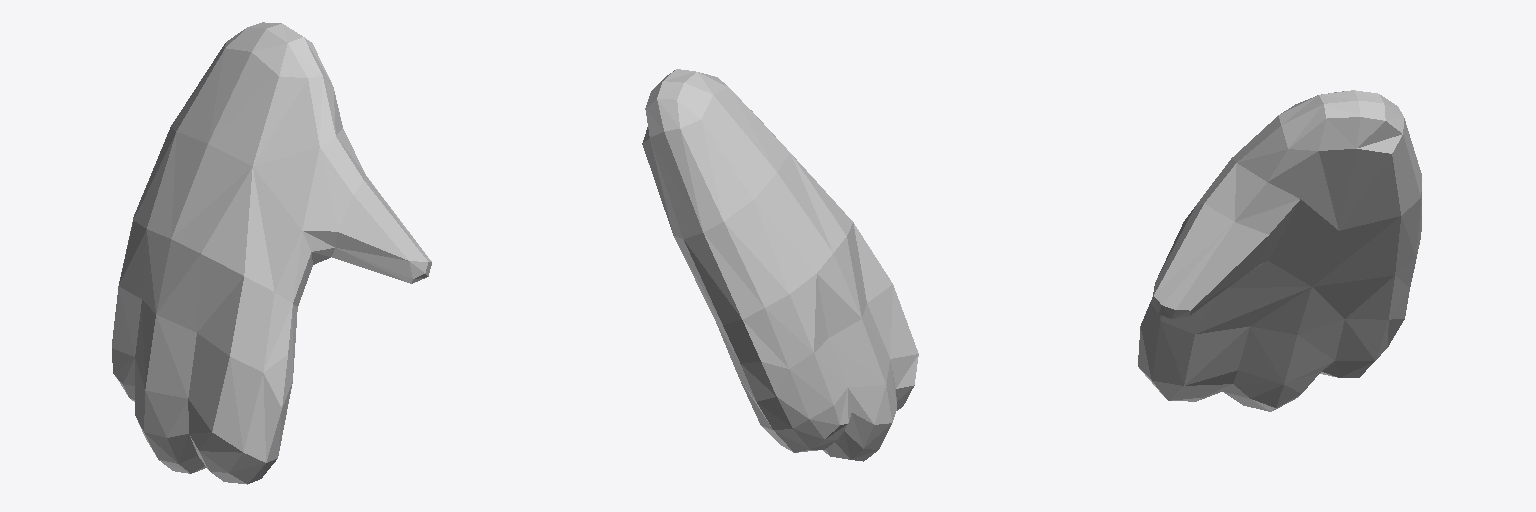
File: Hand_Open_R.obj
3 renders of one model, left to right at view 1: azimuth 30°, elevation 25°; view 2: azimuth 150°, elevation 25°; view 3: azimuth 270°, elevation 25°, orthographic.
Visible parts, largest first — view 1: Hand_Open_R; view 2: Hand_Open_R; view 3: Hand_Open_R.
Boxes of the visible parts, x1,y1,x2,y2 form: Hand_Open_R: [112, 22, 431, 484]; Hand_Open_R: [642, 69, 918, 461]; Hand_Open_R: [1138, 90, 1421, 411].
Size of the model in its own units: 0.2453 by 0.374 by 0.2555.